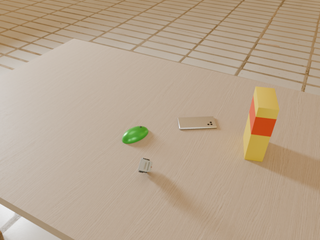box: (243, 87, 279, 162)
mouse: (122, 126, 148, 144)
phone: (178, 116, 217, 130)
toy_car: (138, 158, 153, 173)
